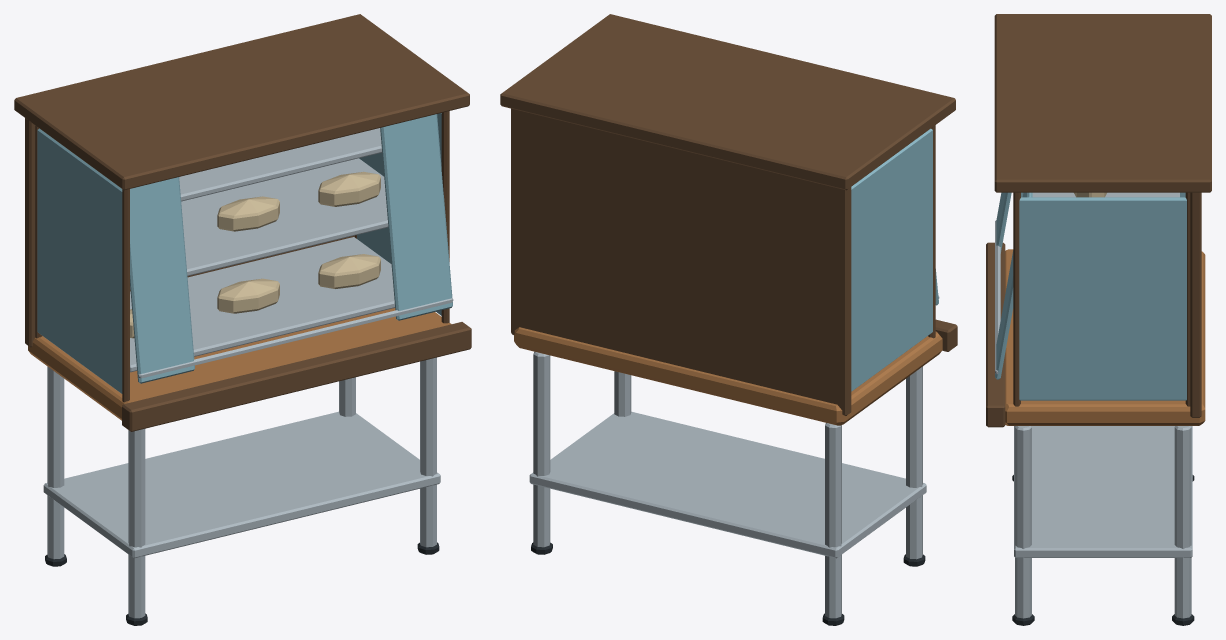
Rendered from b10_bakery_sidewalk_glass_case.glb.
The picture shows the model from 3 angles, left to right: view 1: azimuth 30°, elevation 25°; view 2: azimuth 150°, elevation 25°; view 3: azimuth 270°, elevation 25°; orthographic projection.
Visible parts, largest first — view 1: b10_bakery_sidewalk_glass_case; view 2: b10_bakery_sidewalk_glass_case; view 3: b10_bakery_sidewalk_glass_case.
Part boxes in pixels (left/top/right/bottom): b10_bakery_sidewalk_glass_case: left=14, top=14, right=471, bottom=625; b10_bakery_sidewalk_glass_case: left=500, top=14, right=957, bottom=625; b10_bakery_sidewalk_glass_case: left=986, top=14, right=1211, bottom=625.
Size of the model in its own units: 1.24 by 1.57 by 0.707.
